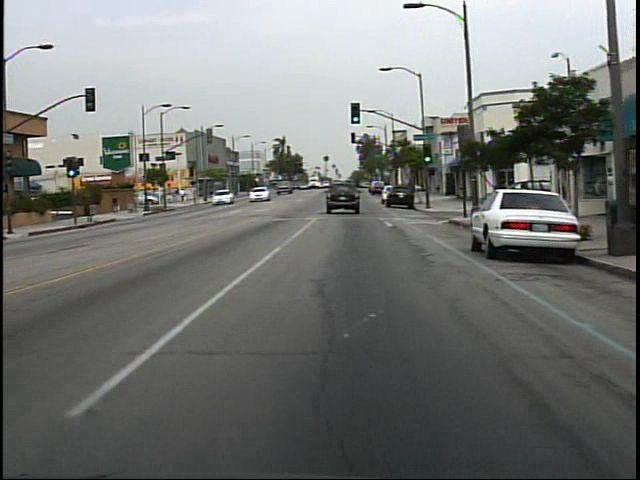person: (488, 175, 512, 226), (108, 191, 128, 220), (179, 186, 188, 205)
